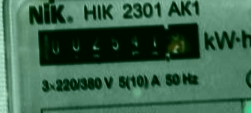0: (46, 33, 60, 55), (67, 31, 80, 52)
1: (146, 29, 158, 49)
2: (87, 31, 100, 51)
4: (127, 28, 140, 50)
5: (106, 29, 119, 52)
6: (169, 40, 180, 55)
screen: (26, 13, 210, 74)
